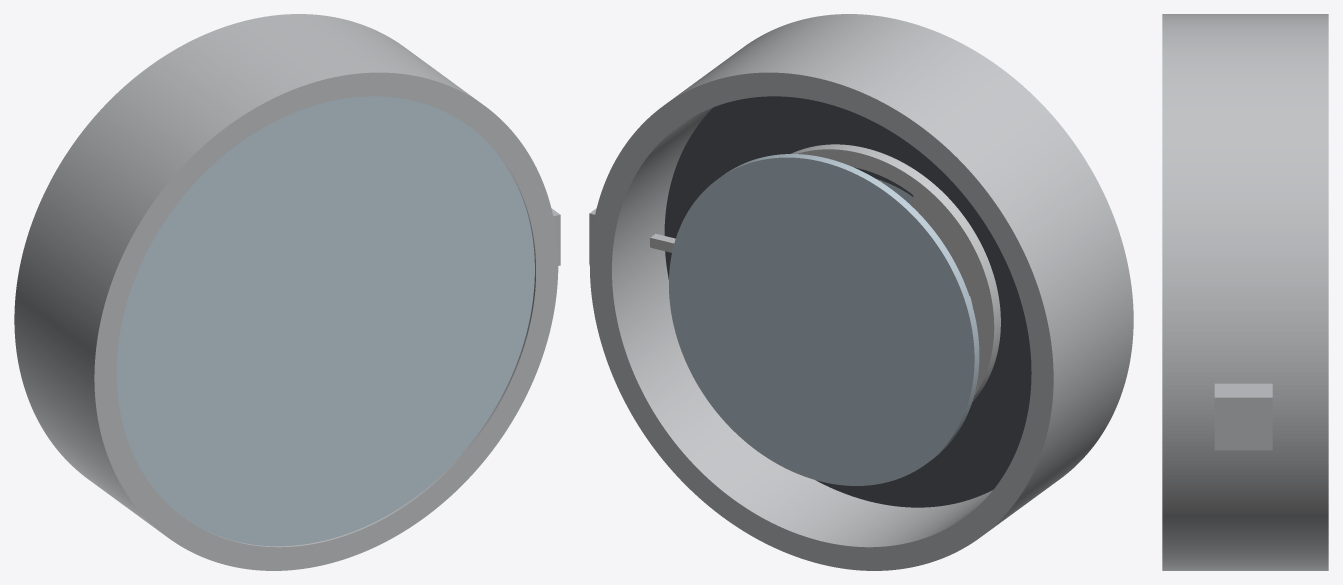
File: movement.glb
The picture shows the model from 3 angles, left to right: view 1: azimuth 30°, elevation 25°; view 2: azimuth 150°, elevation 25°; view 3: azimuth 270°, elevation 25°; orthographic projection. The views are drawn at different scales.
Parts seen in each view (by area): view 1: crystal, case; view 2: case, caseback_glass, dial, main_plate; view 3: case, crown.
Boxes of the visible parts, x1,y1,x2,y2 form: crystal: (116,96,534,546); case: (14,14,558,570); case: (589,14,1133,570); caseback_glass: (669,154,979,485); dial: (664,96,1031,507); main_plate: (791,144,1000,401); case: (1162,14,1328,570); crown: (1214,383,1272,450).
Bounding box in the file's own units: 46.6 × 44 × 13.15.
